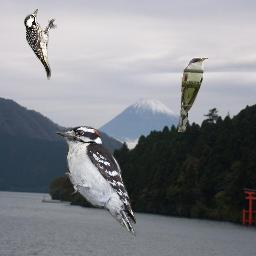Cuckoo: (178, 57, 208, 132)
Woodpecker: (55, 126, 136, 237), (24, 9, 57, 80)
